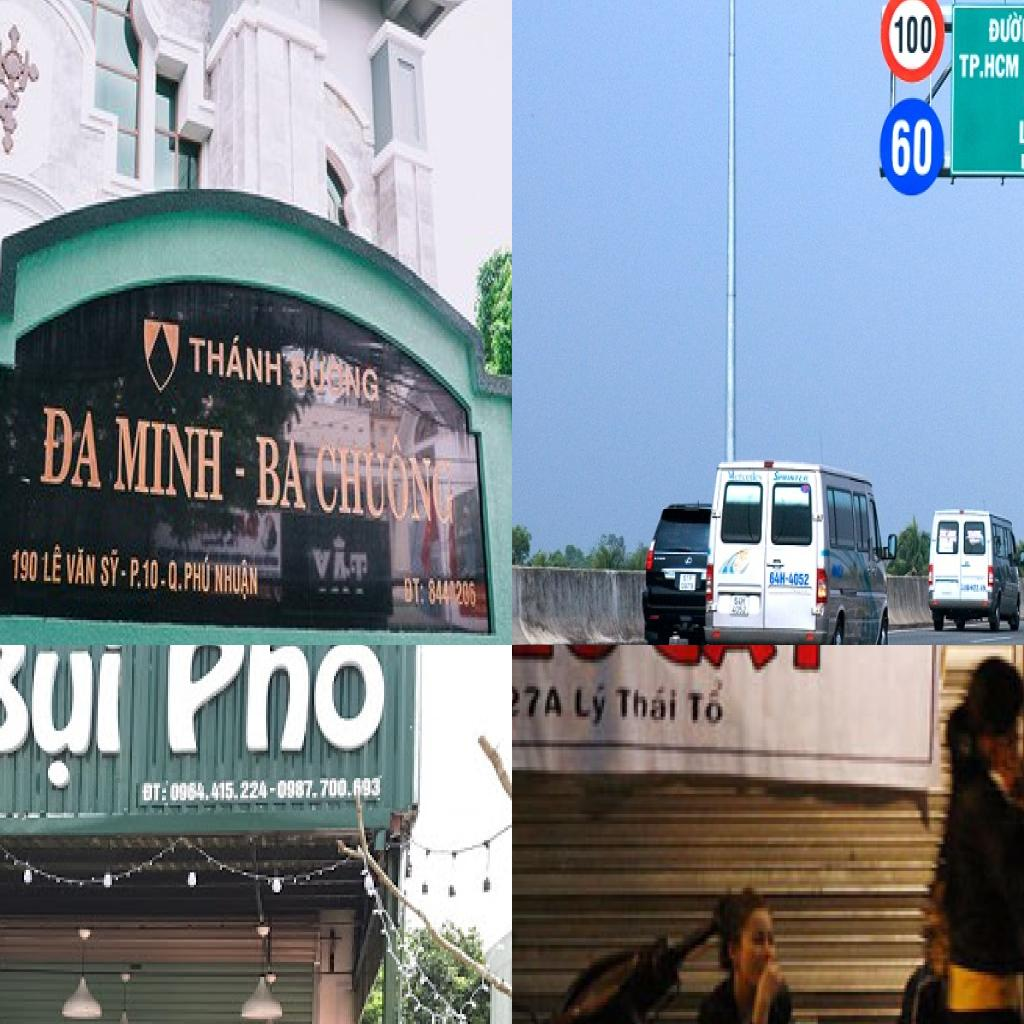text: (164, 645, 396, 765), (0, 645, 128, 785), (311, 427, 463, 544), (108, 408, 230, 516), (645, 645, 852, 693), (34, 400, 106, 508), (185, 328, 286, 396), (286, 343, 382, 411), (253, 432, 310, 518), (276, 775, 384, 808), (615, 676, 684, 727), (682, 676, 730, 737), (211, 554, 263, 610), (170, 780, 272, 808), (890, 120, 934, 179), (512, 679, 567, 723), (570, 676, 613, 727), (61, 542, 100, 596), (958, 53, 1022, 82), (8, 542, 41, 594), (183, 550, 216, 602), (895, 15, 934, 57), (99, 542, 125, 602), (125, 555, 163, 594), (396, 570, 427, 615), (987, 11, 1024, 47), (42, 542, 66, 594), (138, 778, 170, 805), (168, 550, 184, 602), (769, 570, 811, 588), (1018, 110, 1024, 146)
